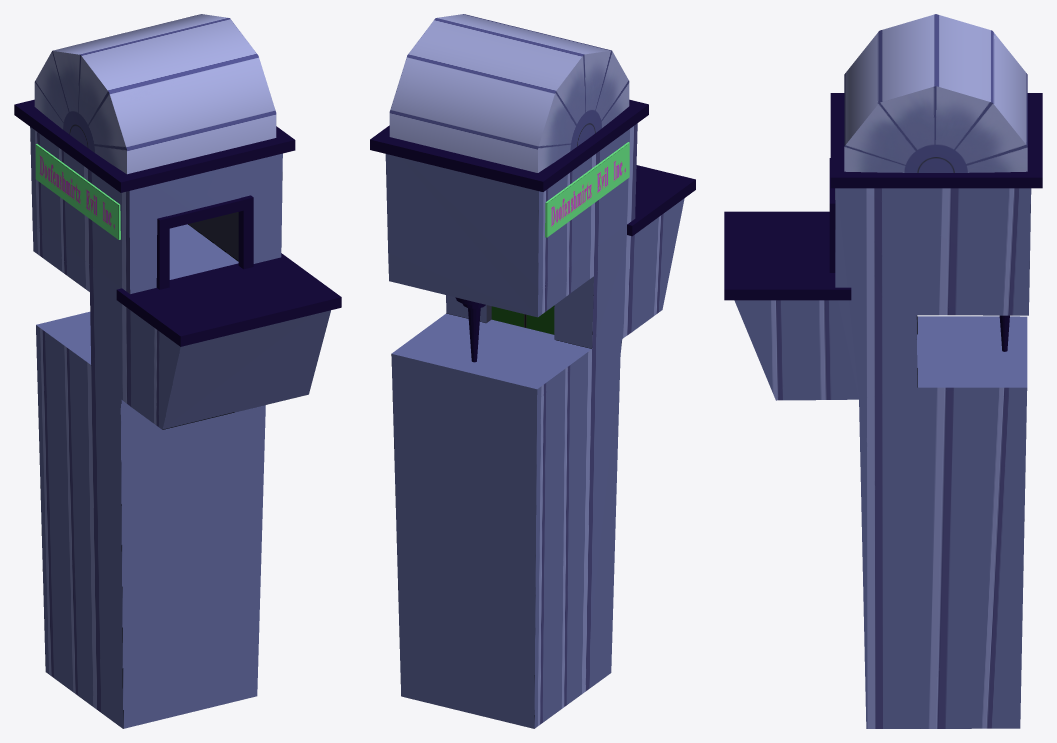
File: Doofenshmirtz.fbx
The picture shows the model from 3 angles, left to right: view 1: azimuth 30°, elevation 25°; view 2: azimuth 150°, elevation 25°; view 3: azimuth 270°, elevation 25°; orthographic projection.
Parts seen in each view (by area): view 1: Box002, OilTank001, Box004, Box003, Box005, Box008, Box007, Box006; view 2: Box002, OilTank001, Box003, Box005, Box004, Cylinder001; view 3: Box002, OilTank001, Box004, Box003, Box007.
Boxes of the visible parts, <box> form: Box002: <box>30,127,330,728</box>; OilTank001: <box>34,14,276,174</box>; Box004: <box>116,253,341,346</box>; Box003: <box>14,99,295,192</box>; Box005: <box>35,144,120,239</box>; Box008: <box>165,198,248,229</box>; Box007: <box>238,195,253,269</box>; Box006: <box>156,216,169,289</box>; Box002: <box>385,123,684,728</box>; OilTank001: <box>389,14,629,172</box>; Box003: <box>370,99,648,191</box>; Box005: <box>545,142,629,237</box>; Box004: <box>627,165,695,236</box>; Cylinder001: <box>455,297,485,362</box>; Box002: <box>734,188,1031,728</box>; OilTank001: <box>844,14,1027,172</box>; Box004: <box>724,211,851,300</box>; Box003: <box>830,93,1042,188</box>; Box007: <box>829,198,835,272</box>.
Bounding box in the file's own units: 52 × 185 × 82.63.
4 materials, 3 textured.
